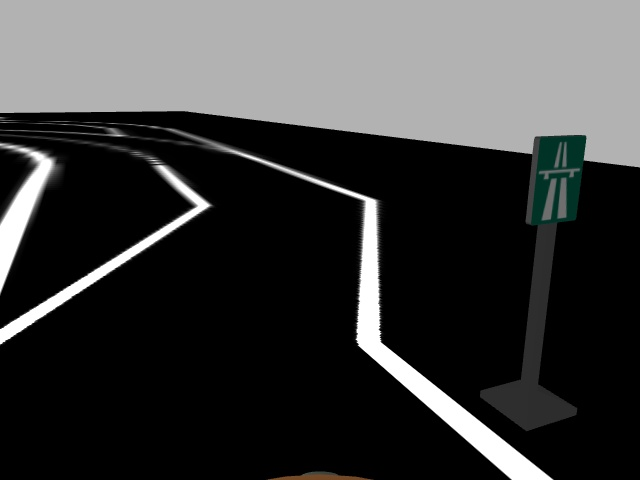enter_highway: (522, 134, 588, 227)
